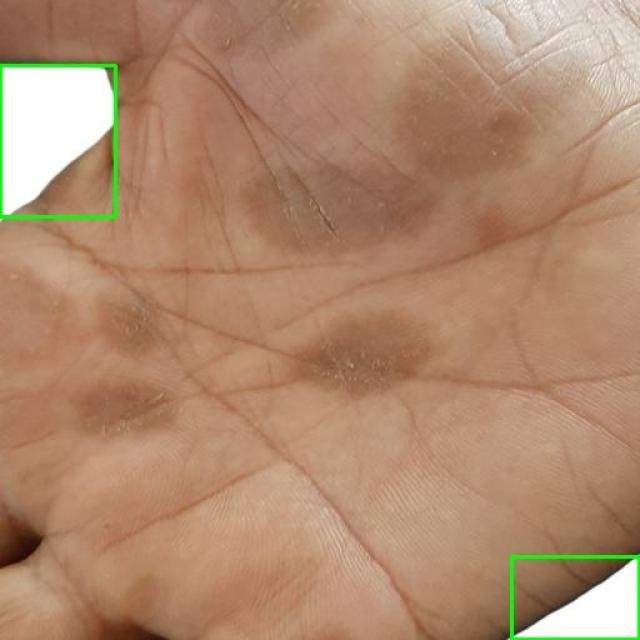Contact Dermatitis: (0, 65, 115, 216), (511, 556, 639, 639)
